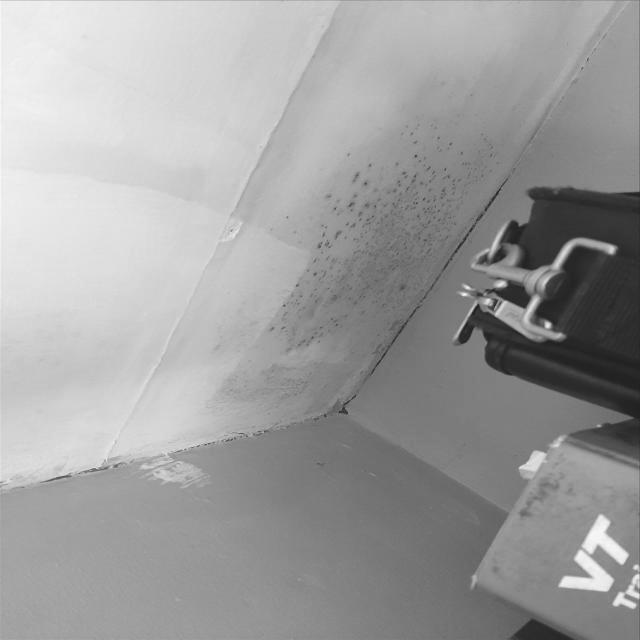stain marks: (0, 0, 640, 431), (0, 449, 156, 498)
